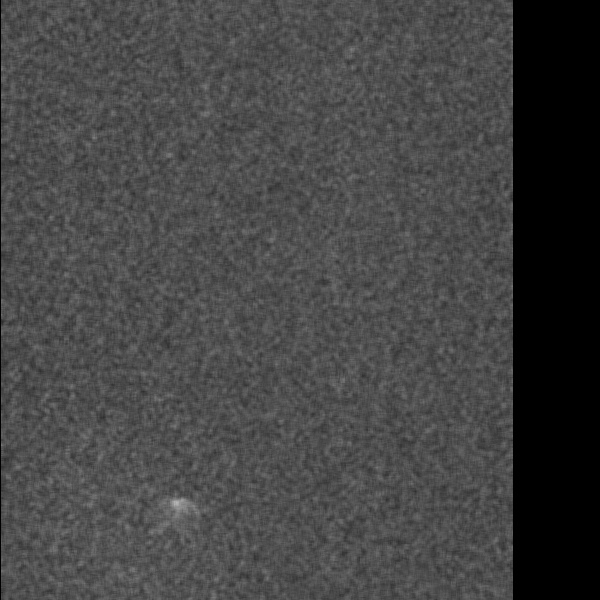spark: (163, 495, 194, 538)
